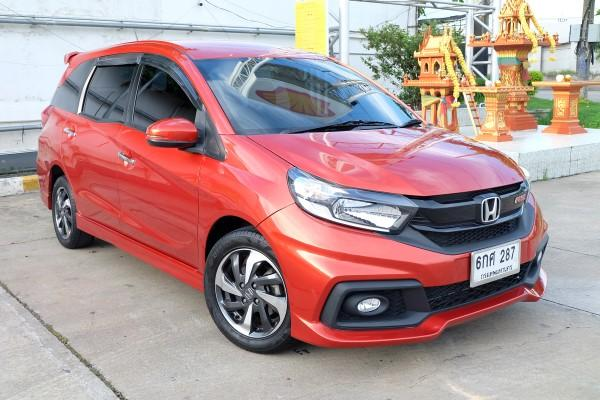license-plate: (469, 237, 524, 288)
